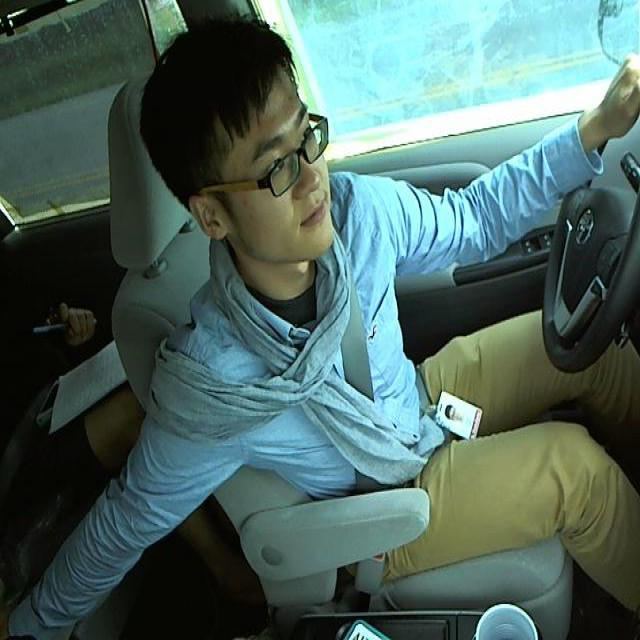seatbelt: (325, 278, 385, 458)
